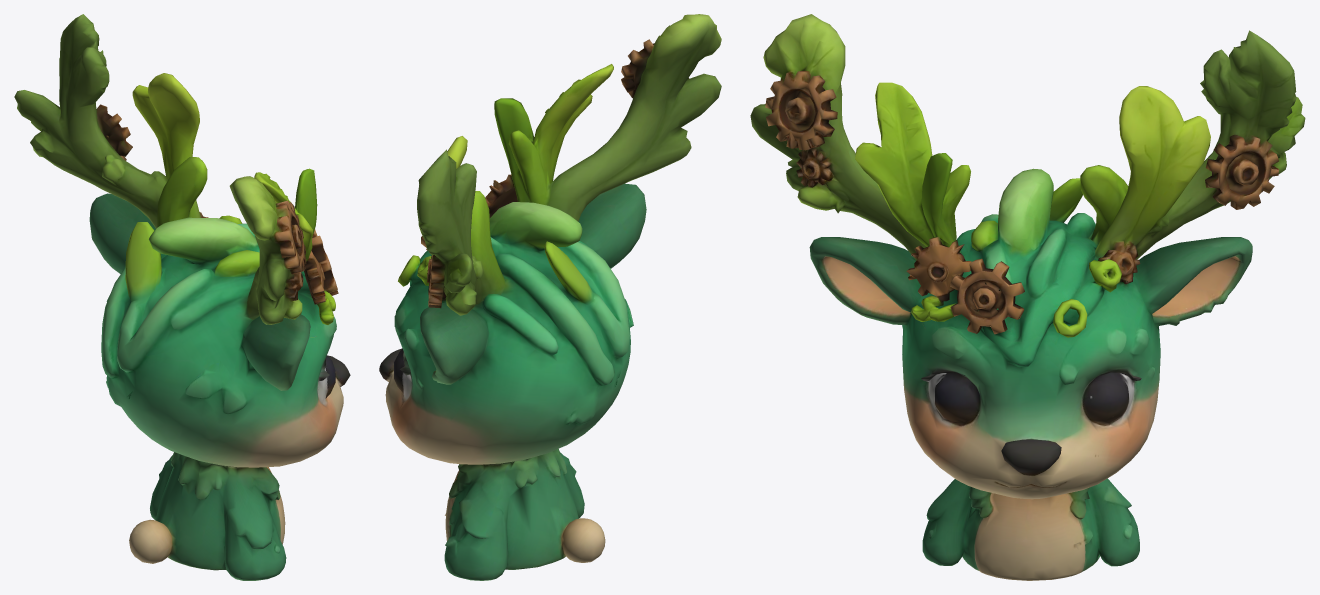
File: head.glb
3 renders of one model, left to right at view 1: azimuth 30°, elevation 25°; view 2: azimuth 150°, elevation 25°; view 3: azimuth 270°, elevation 25°, orthographic. The views are drawn at different scales.
Parts seen in each view (by area): view 1: tripo_node_b7bf36ec-b987-4650-94ec-ddb87e2fcfa4; view 2: tripo_node_b7bf36ec-b987-4650-94ec-ddb87e2fcfa4; view 3: tripo_node_b7bf36ec-b987-4650-94ec-ddb87e2fcfa4.
Boxes of the visible parts, x1,y1,x2,y2 form: tripo_node_b7bf36ec-b987-4650-94ec-ddb87e2fcfa4: (14, 14, 350, 580); tripo_node_b7bf36ec-b987-4650-94ec-ddb87e2fcfa4: (379, 14, 721, 580); tripo_node_b7bf36ec-b987-4650-94ec-ddb87e2fcfa4: (750, 14, 1305, 580).
Bounding box in the file's own units: 0.5186 × 1 × 0.9955.
1 material, 1 textured.
